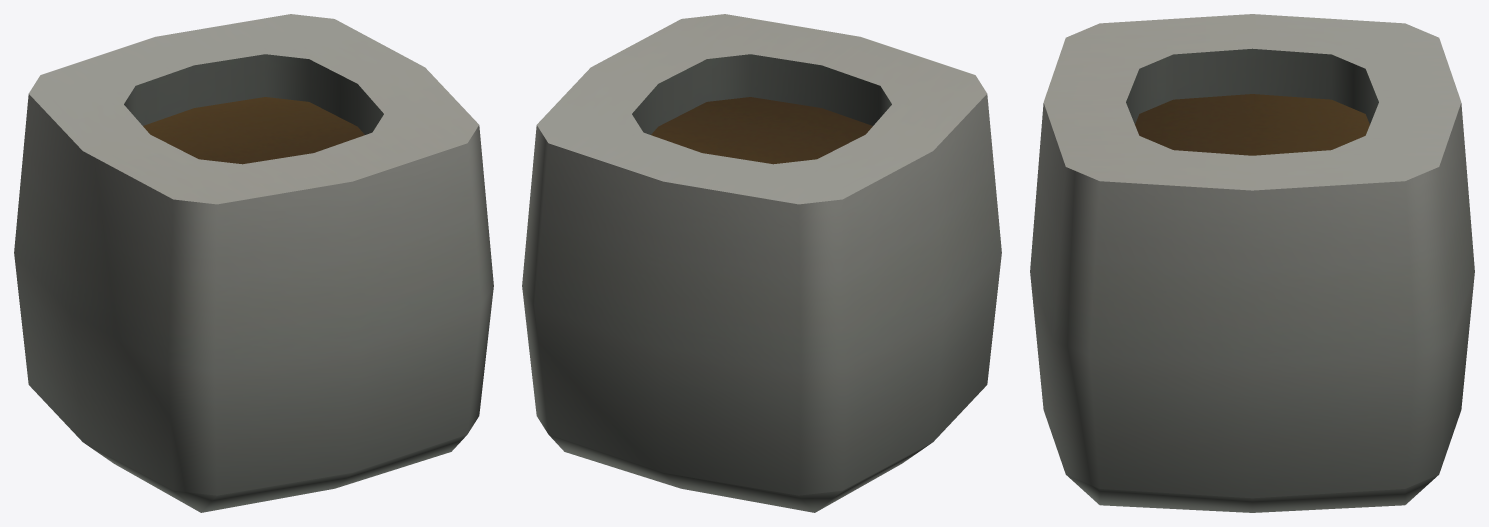
The model's file is flower_pot_big_lightgrey.fbx.
The picture shows the model from 3 angles, left to right: view 1: azimuth 30°, elevation 25°; view 2: azimuth 150°, elevation 25°; view 3: azimuth 270°, elevation 25°; orthographic projection. The views are drawn at different scales.
Parts seen in each view (by area): view 1: flower_pot_big_lightgrey; view 2: flower_pot_big_lightgrey; view 3: flower_pot_big_lightgrey.
Boxes of the visible parts, x1=… form: flower_pot_big_lightgrey: x1=14, y1=14, x2=493, y2=512; flower_pot_big_lightgrey: x1=522, y1=14, x2=1001, y2=512; flower_pot_big_lightgrey: x1=1030, y1=14, x2=1474, y2=512.
Size of the model in its own units: 59.57 by 50 by 59.57.
